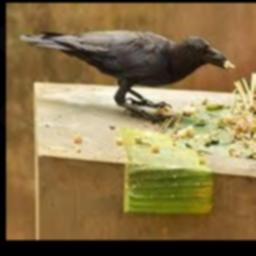Crow: (18, 30, 231, 113)
